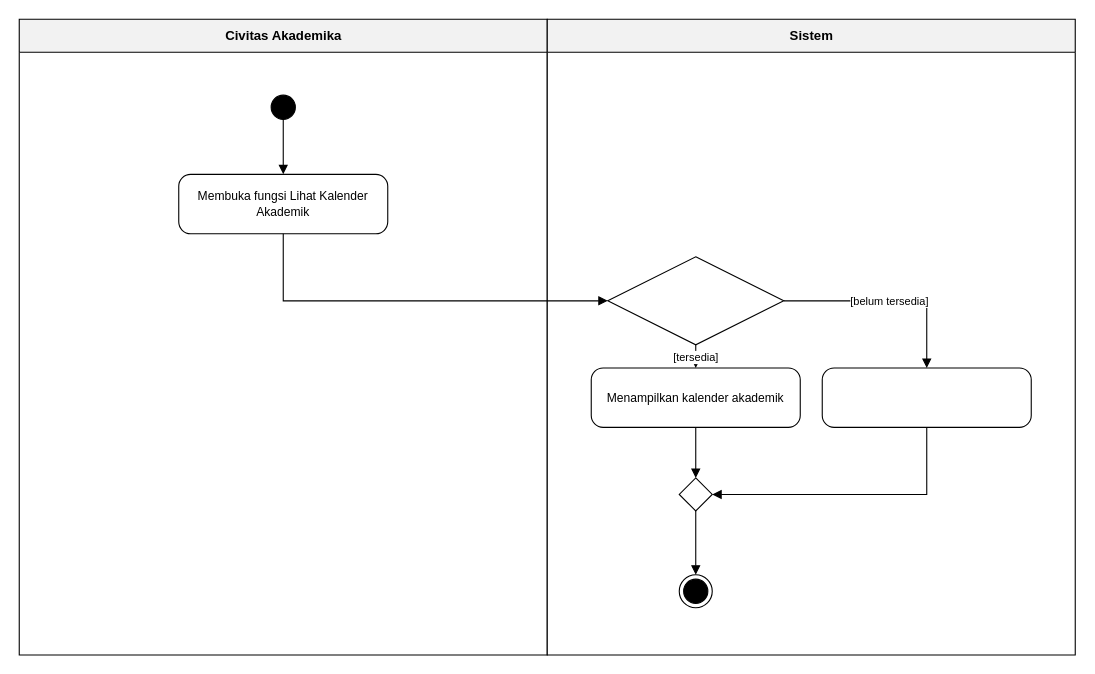
Some shapes in this 1095 by 674 pixel diagram are drawn without their labels. The shapes that lost their labels are listed below. From the top down, each one's centre as x and y in pixels, then its label:
At point 695,300: "Kalender akademik tersedia?".
At point 926,397: "Menampilkan pesan kalender akademik belum tersedia".
